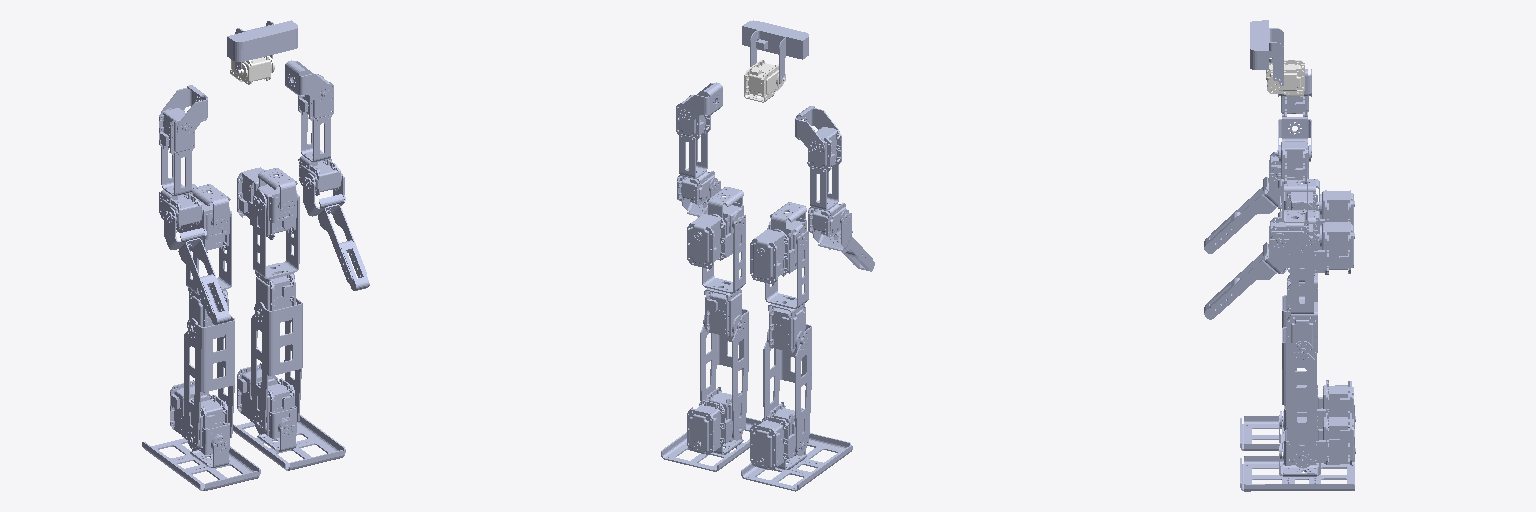
--- Render facts (derived) ---
Views: 3 orthographic renders of the robot side by side, from view 1: azimuth 30°, elevation 25°; view 2: azimuth 150°, elevation 25°; view 3: azimuth 270°, elevation 25°.
Model hanumanURDFv1 with 21 links and 20 joints (20 continuous), rooted at body, posed every joint at zero.
Visible links, largest first — view 1: L5, R5, AR3, L4, AL3, R7, L7, AL4, AR4, L6, R6, L3 (+8 smaller); view 2: AR3, R5, L4, L5, R4, AL3, R3, L3, L6, R6, R7, H3 (+7 smaller); view 3: L5, L7, L4, AL3, L6, AL4, L3, AR4, R3, H3, R6, R7 (+3 smaller).
Boxes of the visible links, left/top/right/bottom form: L5: left=251, top=298, right=302, bottom=429; R5: left=184, top=315, right=234, bottom=446; AR3: left=159, top=108, right=203, bottom=229; L4: left=253, top=195, right=299, bottom=322; AL3: left=298, top=74, right=342, bottom=195; R7: left=142, top=438, right=260, bottom=490; L7: left=233, top=415, right=345, bottom=470; AL4: left=303, top=175, right=369, bottom=290; AR4: left=164, top=209, right=230, bottom=324; L6: left=237, top=363, right=296, bottom=438; R6: left=170, top=380, right=229, bottom=454; L3: left=237, top=167, right=297, bottom=239; AR3: left=807, top=127, right=848, bottom=237; R5: left=763, top=324, right=811, bottom=451; L4: left=702, top=215, right=745, bottom=336; L5: left=700, top=309, right=748, bottom=436; R4: left=765, top=231, right=808, bottom=352; AL3: left=676, top=95, right=717, bottom=205; R3: left=750, top=218, right=806, bottom=285; L3: left=687, top=202, right=743, bottom=269; L6: left=687, top=387, right=743, bottom=454; R6: left=750, top=402, right=806, bottom=470; R7: left=741, top=433, right=852, bottom=491; H3: left=742, top=20, right=808, bottom=83; L5: left=1282, top=327, right=1316, bottom=460; L7: left=1240, top=446, right=1354, bottom=491; L4: left=1287, top=242, right=1317, bottom=359; AL3: left=1270, top=141, right=1311, bottom=251; L6: left=1279, top=412, right=1355, bottom=467; AL4: left=1204, top=226, right=1288, bottom=319; L3: left=1287, top=222, right=1354, bottom=274; AR4: left=1204, top=160, right=1281, bottom=253; R3: left=1280, top=190, right=1354, bottom=238; H3: left=1250, top=20, right=1283, bottom=85; R6: left=1279, top=380, right=1355, bottom=430; R7: left=1240, top=416, right=1354, bottom=450.
Size in the robot's own frame: 0.2516 by 0.1979 by 0.6097 metres.
Meshes: 21 distinct files referenced, 20 mesh visuals loaded (20 binary STL); not drawn: 1 (reference not matched to a file when rendering).

The robot description file, URDF, robot "hanumanURDFv1":
<?xml version="1.0" encoding="utf-8"?>
<!-- This URDF was automatically created by SolidWorks to URDF Exporter! Originally created by Stephen Brawner ([email redacted]) 
     Commit Version: 1.6.0-4-g7f85cfe  Build Version: 1.6.7995.38578
     For more information, please see http://wiki.ros.org/sw_urdf_exporter -->
<robot
  name="hanumanURDFv1">
  <link
    name="body">
    <inertial>
      <origin
        xyz="-0.00041783 0.011271 -0.062317"
        rpy="0 0 0" />
      <mass
        value="1.0275" />
      <inertia
        ixx="0.00096224"
        ixy="1.373E-09"
        ixz="-1.7501E-09"
        iyy="0.0010372"
        iyz="6.0957E-06"
        izz="0.0014276" />
    </inertial>
    <visual>
      <origin
        xyz="0 0 0"
        rpy="0 0 0" />
      <geometry>
        <mesh
          filename="package://meshes/body.STL" />
      </geometry>
      <material
        name="">
        <color
          rgba="0.79216 0.81961 0.93333 1" />
      </material>
    </visual>
    <collision>
      <origin
        xyz="0 0 0"
        rpy="0 0 0" />
      <geometry>
        <mesh
          filename="package://meshes/body.STL" />
      </geometry>
    </collision>
  </link>
  <link
    name="R2">
    <inertial>
      <origin
        xyz="5.1195E-12 -0.007935 0.0049359"
        rpy="0 0 0" />
      <mass
        value="0.0059458" />
      <inertia
        ixx="2.941E-06"
        ixy="-2.483E-16"
        ixz="-3.9623E-15"
        iyy="2.9244E-06"
        iyz="-3.8274E-08"
        izz="9.8493E-07" />
    </inertial>
    <visual>
      <origin
        xyz="0 0 0"
        rpy="0 0 0" />
      <geometry>
        <mesh
          filename="package://meshes/R2.STL" />
      </geometry>
      <material
        name="">
        <color
          rgba="0.79216 0.81961 0.93333 1" />
      </material>
    </visual>
    <collision>
      <origin
        xyz="0 0 0"
        rpy="0 0 0" />
      <geometry>
        <mesh
          filename="package://meshes/R2.STL" />
      </geometry>
    </collision>
  </link>
  <joint
    name="JR1"
    type="continuous">
    <origin
      xyz="-0.049 0.0104088177516317 -0.132568535154512"
      rpy="1.57387978032368 0 0" />
    <parent
      link="body" />
    <child
      link="R2" />
    <axis
      xyz="0 1 0" />
  </joint>
  <link
    name="R3">
    <inertial>
      <origin
        xyz="-2.3368E-05 -0.01515 -0.020816"
        rpy="0 0 0" />
      <mass
        value="0.15544" />
      <inertia
        ixx="5.5826E-05"
        ixy="-8.8929E-07"
        ixz="-1.9579E-21"
        iyy="3.4649E-05"
        iyz="-8.7464E-07"
        izz="5.6133E-05" />
    </inertial>
    <visual>
      <origin
        xyz="0 0 0"
        rpy="0 0 0" />
      <geometry>
        <mesh
          filename="package://meshes/R3.STL" />
      </geometry>
      <material
        name="">
        <color
          rgba="0.79216 0.81961 0.93333 1" />
      </material>
    </visual>
    <collision>
      <origin
        xyz="0 0 0"
        rpy="0 0 0" />
      <geometry>
        <mesh
          filename="package://meshes/R3.STL" />
      </geometry>
    </collision>
  </link>
  <joint
    name="JR2"
    type="continuous">
    <origin
      xyz="0 -0.0315 0"
      rpy="0 0 0" />
    <parent
      link="R2" />
    <child
      link="R3" />
    <axis
      xyz="0 0 1" />
  </joint>
  <link
    name="R4">
    <inertial>
      <origin
        xyz="-3.7156E-05 -0.10988 0.064502"
        rpy="0 0 0" />
      <mass
        value="0.08965" />
      <inertia
        ixx="4.1601E-05"
        ixy="7.6136E-07"
        ixz="-4.4445E-07"
        iyy="3.2411E-05"
        iyz="1.1546E-05"
        izz="4.5766E-05" />
    </inertial>
    <visual>
      <origin
        xyz="0 0 0"
        rpy="0 0 0" />
      <geometry>
        <mesh
          filename="package://meshes/R4.STL" />
      </geometry>
      <material
        name="">
        <color
          rgba="0.79216 0.81961 0.93333 1" />
      </material>
    </visual>
    <collision>
      <origin
        xyz="0 0 0"
        rpy="0 0 0" />
      <geometry>
        <mesh
          filename="package://meshes/R4.STL" />
      </geometry>
    </collision>
  </link>
  <joint
    name="JR3"
    type="continuous">
    <origin
      xyz="0 0 0"
      rpy="0.523598775598301 0 0" />
    <parent
      link="R3" />
    <child
      link="R4" />
    <axis
      xyz="1 0 0" />
  </joint>
  <link
    name="R5">
    <inertial>
      <origin
        xyz="2.2898E-16 -0.05816 -0.023497"
        rpy="0 0 0" />
      <mass
        value="0.027265" />
      <inertia
        ixx="6.4396E-05"
        ixy="2.3077E-20"
        ixz="4.9191E-20"
        iyy="3.9142E-05"
        iyz="-2.6065E-05"
        izz="5.2842E-05" />
    </inertial>
    <visual>
      <origin
        xyz="0 0 0"
        rpy="0 0 0" />
      <geometry>
        <mesh
          filename="package://meshes/R5.STL" />
      </geometry>
      <material
        name="">
        <color
          rgba="0.79216 0.81961 0.93333 1" />
      </material>
    </visual>
    <collision>
      <origin
        xyz="0 0 0"
        rpy="0 0 0" />
      <geometry>
        <mesh
          filename="package://meshes/R5.STL" />
      </geometry>
    </collision>
  </link>
  <joint
    name="JR4"
    type="continuous">
    <origin
      xyz="0 -0.133733937586588 0.0783660254037848"
      rpy="-1.04719755119658 0 0" />
    <parent
      link="R4" />
    <child
      link="R5" />
    <axis
      xyz="1 0 0" />
  </joint>
  <link
    name="R6">
    <inertial>
      <origin
        xyz="-1.949E-05 0.014466 -0.02182"
        rpy="0 0 0" />
      <mass
        value="0.15544" />
      <inertia
        ixx="5.5826E-05"
        ixy="8.7388E-07"
        ixz="-1.0829E-20"
        iyy="3.4649E-05"
        iyz="8.9004E-07"
        izz="5.6133E-05" />
    </inertial>
    <visual>
      <origin
        xyz="0 0 0"
        rpy="0 0 0" />
      <geometry>
        <mesh
          filename="package://meshes/R6.STL" />
      </geometry>
      <material
        name="">
        <color
          rgba="0.79216 0.81961 0.93333 1" />
      </material>
    </visual>
    <collision>
      <origin
        xyz="0 0 0"
        rpy="0 0 0" />
      <geometry>
        <mesh
          filename="package://meshes/R6.STL" />
      </geometry>
    </collision>
  </link>
  <joint
    name="JR5"
    type="continuous">
    <origin
      xyz="0 -0.134233937586589 -0.0774999999999979"
      rpy="0.523598775598283 0 0" />
    <parent
      link="R5" />
    <child
      link="R6" />
    <axis
      xyz="1 0 0" />
  </joint>
  <link
    name="R7">
    <inertial>
      <origin
        xyz="-0.010368 -0.029152 0.0094603"
        rpy="0 0 0" />
      <mass
        value="0.02937" />
      <inertia
        ixx="5.2726E-05"
        ixy="-2.4831E-16"
        ixz="3.9623E-15"
        iyy="7.627E-05"
        iyz="-4.0769E-07"
        izz="2.5035E-05" />
    </inertial>
    <visual>
      <origin
        xyz="0 0 0"
        rpy="0 0 0" />
      <geometry>
        <mesh
          filename="package://meshes/R7.STL" />
      </geometry>
      <material
        name="">
        <color
          rgba="0.79216 0.81961 0.93333 1" />
      </material>
    </visual>
    <collision>
      <origin
        xyz="0 0 0"
        rpy="0 0 0" />
      <geometry>
        <mesh
          filename="package://meshes/R7.STL" />
      </geometry>
    </collision>
  </link>
  <joint
    name="JR6"
    type="continuous">
    <origin
      xyz="0 0 0"
      rpy="0 0 0" />
    <parent
      link="R6" />
    <child
      link="R7" />
    <axis
      xyz="0 0 1" />
  </joint>
  <link
    name="L2">
    <inertial>
      <origin
        xyz="5.1196E-12 -0.007935 0.0049359"
        rpy="0 0 0" />
      <mass
        value="0.0059458" />
      <inertia
        ixx="2.941E-06"
        ixy="-2.4831E-16"
        ixz="-3.9623E-15"
        iyy="2.9244E-06"
        iyz="-3.8274E-08"
        izz="9.8493E-07" />
    </inertial>
    <visual>
      <origin
        xyz="0 0 0"
        rpy="0 0 0" />
      <geometry>
        <mesh
          filename="package://meshes/L2.STL" />
      </geometry>
      <material
        name="">
        <color
          rgba="0.79216 0.81961 0.93333 1" />
      </material>
    </visual>
    <collision>
      <origin
        xyz="0 0 0"
        rpy="0 0 0" />
      <geometry>
        <mesh
          filename="package://meshes/L2.STL" />
      </geometry>
    </collision>
  </link>
  <joint
    name="JL1"
    type="continuous">
    <origin
      xyz="0.049 0.0104088177516317 -0.132568535154512"
      rpy="1.57387978032368 0 0" />
    <parent
      link="body" />
    <child
      link="L2" />
    <axis
      xyz="0 1 0" />
  </joint>
  <link
    name="L3">
    <inertial>
      <origin
        xyz="1.94903609579411E-05 -0.0151499843579775 -0.0208201673886667"
        rpy="0 0 0" />
      <mass
        value="0.15544328108956" />
      <inertia
        ixx="5.58260684034127E-05"
        ixy="8.73883694619814E-07"
        ixz="7.34053883177235E-21"
        iyy="3.46492828581794E-05"
        iyz="-8.90044715309545E-07"
        izz="5.61332220076912E-05" />
    </inertial>
    <visual>
      <origin
        xyz="0 0 0"
        rpy="0 0 0" />
      <geometry>
        <mesh
          filename="package://meshes/L3.STL" />
      </geometry>
      <material
        name="">
        <color
          rgba="0.792156862745098 0.819607843137255 0.933333333333333 1" />
      </material>
    </visual>
    <collision>
      <origin
        xyz="0 0 0"
        rpy="0 0 0" />
      <geometry>
        <mesh
          filename="package://meshes/L3.STL" />
      </geometry>
    </collision>
  </link>
  <joint
    name="JL2"
    type="continuous">
    <origin
      xyz="0 -0.0315000000000001 0"
      rpy="0 0 0" />
    <parent
      link="L2" />
    <child
      link="L3" />
    <axis
      xyz="0 0 1" />
  </joint>
  <link
    name="L4">
    <inertial>
      <origin
        xyz="3.71560602005702E-05 0.0630194871166002 0.104414323766192"
        rpy="0 0 0" />
      <mass
        value="0.0896499629130445" />
      <inertia
        ixx="4.16009895691135E-05"
        ixy="5.02197314697277E-07"
        ixz="7.24573527441378E-07"
        iyy="4.36739646160413E-05"
        iyz="-1.25252037868802E-05"
        izz="3.45030480540803E-05" />
    </inertial>
    <visual>
      <origin
        xyz="0 0 0"
        rpy="0 0 0" />
      <geometry>
        <mesh
          filename="package://meshes/L4.STL" />
      </geometry>
      <material
        name="">
        <color
          rgba="0.792156862745098 0.819607843137255 0.933333333333333 1" />
      </material>
    </visual>
    <collision>
      <origin
        xyz="0 0 0"
        rpy="0 0 0" />
      <geometry>
        <mesh
          filename="package://meshes/L4.STL" />
      </geometry>
    </collision>
  </link>
  <joint
    name="JL3"
    type="continuous">
    <origin
      xyz="0 -0.00573576436351039 0.00919152044288992"
      rpy="2.1816615649929 0 0" />
    <parent
      link="L3" />
    <child
      link="L4" />
    <axis
      xyz="1 0 0" />
  </joint>
  <link
    name="L5">
    <inertial>
      <origin
        xyz="4.78783679369599E-16 -0.0183390437380094 0.0599869380999931"
        rpy="0 0 0" />
      <mass
        value="0.0272654512429999" />
      <inertia
        ixx="6.43959167351525E-05"
        ixy="6.25554376448522E-20"
        ixz="-1.3540095575496E-19"
        iyy="5.72644987666864E-05"
        iyz="2.44798091780557E-05"
        izz="3.47198773427012E-05" />
    </inertial>
    <visual>
      <origin
        xyz="0 0 0"
        rpy="0 0 0" />
      <geometry>
        <mesh
          filename="package://meshes/L5.STL" />
      </geometry>
      <material
        name="">
        <color
          rgba="0.792156862745098 0.819607843137255 0.933333333333333 1" />
      </material>
    </visual>
    <collision>
      <origin
        xyz="0 0 0"
        rpy="0 0 0" />
      <geometry>
        <mesh
          filename="package://meshes/L5.STL" />
      </geometry>
    </collision>
  </link>
  <joint
    name="JL4"
    type="continuous">
    <origin
      xyz="0 0.0789043476344092 0.126968566864793"
      rpy="-1.0471975511966 0 0" />
    <parent
      link="L4" />
    <child
      link="L5" />
    <axis
      xyz="1 0 0" />
  </joint>
  <link
    name="L6">
    <inertial>
      <origin
        xyz="2.33682225148149E-05 -0.0229940897785377 -0.0125097987045415"
        rpy="0 0 0" />
      <mass
        value="0.15544328108956" />
      <inertia
        ixx="5.58260684034126E-05"
        ixy="7.75063095128783E-08"
        ixz="8.85901171526324E-07"
        iyy="5.58181471321927E-05"
        iyz="-2.72667897496436E-06"
        izz="3.49643577336778E-05" />
    </inertial>
    <visual>
      <origin
        xyz="0 0 0"
        rpy="0 0 0" />
      <geometry>
        <mesh
          filename="package://meshes/L6.STL" />
      </geometry>
      <material
        name="">
        <color
          rgba="0.792156862745098 0.819607843137255 0.933333333333333 1" />
      </material>
    </visual>
    <collision>
      <origin
        xyz="0 0 0"
        rpy="0 0 0" />
      <geometry>
        <mesh
          filename="package://meshes/L6.STL" />
      </geometry>
    </collision>
  </link>
  <joint
    name="JL5"
    type="continuous">
    <origin
      xyz="0 -0.06550583056981 0.14047770699068"
      rpy="0.523598775598298 0 0" />
    <parent
      link="L5" />
    <child
      link="L6" />
    <axis
      xyz="1 0 0" />
  </joint>
  <link
    name="L7">
    <inertial>
      <origin
        xyz="0.010368 0.011965 0.028217"
        rpy="0 0 0" />
      <mass
        value="0.02937" />
      <inertia
        ixx="5.2726E-05"
        ixy="3.9688E-15"
        ixz="-9.793E-17"
        iyy="2.5495E-05"
        iyz="4.8499E-06"
        izz="7.581E-05" />
    </inertial>
    <visual>
      <origin
        xyz="0 0 0"
        rpy="0 0 0" />
      <geometry>
        <mesh
          filename="package://meshes/L7.STL" />
      </geometry>
      <material
        name="">
        <color
          rgba="0.79216 0.81961 0.93333 1" />
      </material>
    </visual>
    <collision>
      <origin
        xyz="0 0 0"
        rpy="0 0 0" />
      <geometry>
        <mesh
          filename="package://meshes/L7.STL" />
      </geometry>
    </collision>
  </link>
  <joint
    name="JL6"
    type="continuous">
    <origin
      xyz="0 0 0"
      rpy="0 0 0" />
    <parent
      link="L6" />
    <child
      link="L7" />
    <axis
      xyz="0 0.99619 -0.087156" />
  </joint>
  <link
    name="AR2">
    <inertial>
      <origin
        xyz="-0.0122215328030043 -0.00304504079535875 0.00046755664416805"
        rpy="0 0 0" />
      <mass
        value="0.00782111452958767" />
      <inertia
        ixx="3.46730290731849E-06"
        ixy="-3.56887654541805E-07"
        ixz="5.4799001168357E-08"
        iyy="3.44521472170541E-06"
        iyz="-2.06144819144966E-07"
        izz="2.13431503339268E-06" />
    </inertial>
    <visual>
      <origin
        xyz="0 0 0"
        rpy="0 0 0" />
      <geometry>
        <mesh
          filename="package://meshes/AR2.STL" />
      </geometry>
      <material
        name="">
        <color
          rgba="0.792156862745098 0.819607843137255 0.933333333333333 1" />
      </material>
    </visual>
    <collision>
      <origin
        xyz="0 0 0"
        rpy="0 0 0" />
      <geometry>
        <mesh
          filename="package://meshes/AR2.STL" />
      </geometry>
    </collision>
  </link>
  <joint
    name="JAR1"
    type="continuous">
    <origin
      xyz="-0.0665 0 -0.0001"
      rpy="1.7262 0 0" />
    <parent
      link="body" />
    <child
      link="AR2" />
    <axis
      xyz="1 0 0" />
  </joint>
  <link
    name="AR3">
    <inertial>
      <origin
        xyz="-0.0217424355782832 -0.0598709237463328 0.0138089346841776"
        rpy="0 0 0" />
      <mass
        value="0.097623535640491" />
      <inertia
        ixx="2.66927650742415E-05"
        ixy="-1.51414262049177E-06"
        ixz="-2.59340162798032E-07"
        iyy="2.29946667509428E-05"
        iyz="-4.51570937003064E-07"
        izz="2.16812046230082E-05" />
    </inertial>
    <visual>
      <origin
        xyz="0 0 0"
        rpy="0 0 0" />
      <geometry>
        <mesh
          filename="package://meshes/AR3.STL" />
      </geometry>
      <material
        name="">
        <color
          rgba="0.792156862745098 0.819607843137255 0.933333333333333 1" />
      </material>
    </visual>
    <collision>
      <origin
        xyz="0 0 0"
        rpy="0 0 0" />
      <geometry>
        <mesh
          filename="package://meshes/AR3.STL" />
      </geometry>
    </collision>
  </link>
  <joint
    name="JAR2"
    type="continuous">
    <origin
      xyz="-0.035 -0.019768322112152 0.00303536503079964"
      rpy="0.00863677948697105 0.0507435699806214 0.337108707096089" />
    <parent
      link="AR2" />
    <child
      link="AR3" />
    <axis
      xyz="0 0.151768251539982 0.988416105607601" />
  </joint>
  <link
    name="AR4">
    <inertial>
      <origin
        xyz="-0.02644 -0.071968 0.024939"
        rpy="0 0 0" />
      <mass
        value="0.026181" />
      <inertia
        ixx="1.2943E-05"
        ixy="-2.0731E-06"
        ixz="1.5391E-06"
        iyy="8.4994E-06"
        iyz="4.3075E-06"
        izz="1.3208E-05" />
    </inertial>
    <visual>
      <origin
        xyz="0 0 0"
        rpy="0 0 0" />
      <geometry>
        <mesh
          filename="package://meshes/AR4.STL" />
      </geometry>
      <material
        name="">
        <color
          rgba="0.79216 0.81961 0.93333 1" />
      </material>
    </visual>
    <collision>
      <origin
        xyz="0 0 0"
        rpy="0 0 0" />
      <geometry>
        <mesh
          filename="package://meshes/AR4.STL" />
      </geometry>
    </collision>
  </link>
  <joint
    name="JAR3"
    type="continuous">
    <origin
      xyz="-0.0391688936407426 -0.105994321647765 0.0375212146577176"
      rpy="-0.401595058674256 0.131487536773221 -0.0485277151924821" />
    <parent
      link="AR3" />
    <child
      link="AR4" />
    <axis
      xyz="0.942500202763317 -0.330334175028508 0.0507217960973566" />
  </joint>
  <link
    name="AL2">
    <inertial>
      <origin
        xyz="0.0122215328030043 -0.00306297937268113 -0.000330212088565164"
        rpy="0 0 0" />
      <mass
        value="0.00782111452958769" />
      <inertia
        ixx="3.46730290731849E-06"
        ixy="3.58990108077455E-07"
        ixz="3.87018190261986E-08"
        iyy="3.46107948276652E-06"
        iyz="1.46447551999455E-07"
        izz="2.11845027233158E-06" />
    </inertial>
    <visual>
      <origin
        xyz="0 0 0"
        rpy="0 0 0" />
      <geometry>
        <mesh
          filename="package://meshes/AL2.STL" />
      </geometry>
      <material
        name="">
        <color
          rgba="0.792156862745098 0.819607843137255 0.933333333333333 1" />
      </material>
    </visual>
    <collision>
      <origin
        xyz="0 0 0"
        rpy="0 0 0" />
      <geometry>
        <mesh
          filename="package://meshes/AL2.STL" />
      </geometry>
    </collision>
  </link>
  <joint
    name="JAL1"
    type="continuous">
    <origin
      xyz="0.0665 0 -0.0001"
      rpy="1.4665 0 0" />
    <parent
      link="body" />
    <child
      link="AL2" />
    <axis
      xyz="1 0 0" />
  </joint>
  <link
    name="AL3">
    <inertial>
      <origin
        xyz="0.00729277157235909 -0.0647229266668686 -0.00238871067636881"
        rpy="0 0 0" />
      <mass
        value="0.0976235356404911" />
      <inertia
        ixx="2.71510597381538E-05"
        ixy="5.49545357684409E-07"
        ixz="-2.77333925095466E-07"
        iyy="2.27195249459817E-05"
        iyz="-2.99771975663198E-07"
        izz="2.14980517640569E-05" />
    </inertial>
    <visual>
      <origin
        xyz="0 0 0"
        rpy="0 0 0" />
      <geometry>
        <mesh
          filename="package://meshes/AL3.STL" />
      </geometry>
      <material
        name="">
        <color
          rgba="0.792156862745098 0.819607843137255 0.933333333333333 1" />
      </material>
    </visual>
    <collision>
      <origin
        xyz="0 0 0"
        rpy="0 0 0" />
      <geometry>
        <mesh
          filename="package://meshes/AL3.STL" />
      </geometry>
    </collision>
  </link>
  <joint
    name="JAL2"
    type="continuous">
    <origin
      xyz="0.035 -0.0198847788687522 -0.00214372790736723"
      rpy="-0.000675234731490389 0.0120468245174906 -0.111983173268338" />
    <parent
      link="AL2" />
    <child
      link="AL3" />
    <axis
      xyz="0 0.107186395368361 -0.994238943437611" />
  </joint>
  <link
    name="AL4">
    <inertial>
      <origin
        xyz="0.0091358 -0.080103 -0.00065632"
        rpy="0 0 0" />
      <mass
        value="0.026181" />
      <inertia
        ixx="1.3655E-05"
        ixy="8.9416E-07"
        ixz="-2.43E-07"
        iyy="5.5878E-06"
        iyz="1.9825E-06"
        izz="1.5407E-05" />
    </inertial>
    <visual>
      <origin
        xyz="0 0 0"
        rpy="0 0 0" />
      <geometry>
        <mesh
          filename="package://meshes/AL4.STL" />
      </geometry>
      <material
        name="">
        <color
          rgba="0.79216 0.81961 0.93333 1" />
      </material>
    </visual>
    <collision>
      <origin
        xyz="0 0 0"
        rpy="0 0 0" />
      <geometry>
        <mesh
          filename="package://meshes/AL4.STL" />
      </geometry>
    </collision>
  </link>
  <joint
    name="JAL3"
    type="continuous">
    <origin
      xyz="0.0131719485348661 -0.118037455358604 0.00839636256129469"
      rpy="-0.491746944547984 -0.0544973559727831 0.00759729409276157" />
    <parent
      link="AL3" />
    <child
      link="AL4" />
    <axis
      xyz="0.993664326490195 0.111741162067576 0.0120465331350887" />
  </joint>
  <link
    name="H2">
    <inertial>
      <origin
        xyz="0 0 0"
        rpy="0 0 0" />
      <mass
        value="0" />
      <inertia
        ixx="0"
        ixy="0"
        ixz="0"
        iyy="0"
        iyz="0"
        izz="0" />
    </inertial>
    <visual>
      <origin
        xyz="0 0 0"
        rpy="0 0 0" />
      <geometry>
        <mesh
          filename="package://meshes/H2.STL" />
      </geometry>
      <material
        name="">
        <color
          rgba="1 1 1 1" />
      </material>
    </visual>
    <collision>
      <origin
        xyz="0 0 0"
        rpy="0 0 0" />
      <geometry>
        <mesh
          filename="package://meshes/H2.STL" />
      </geometry>
    </collision>
  </link>
  <joint
    name="JH1"
    type="continuous">
    <origin
      xyz="0 -6.32106971754079E-05 0.0204999025462992"
      rpy="1.57335367827389 0.00172268556231549 -0.592800435653726" />
    <parent
      link="body" />
    <child
      link="H2" />
    <axis
      xyz="0 1 0" />
  </joint>
  <link
    name="H3">
    <inertial>
      <origin
        xyz="0.036914 -0.026132 0.056288"
        rpy="0 0 0" />
      <mass
        value="0.07019" />
      <inertia
        ixx="2.2612E-05"
        ixy="-3.1644E-07"
        ixz="1.9767E-05"
        iyy="5.3237E-05"
        iyz="2.5722E-08"
        izz="3.8268E-05" />
    </inertial>
    <visual>
      <origin
        xyz="0 0 0"
        rpy="0 0 0" />
      <geometry>
        <mesh
          filename="package://meshes/H3.STL" />
      </geometry>
      <material
        name="">
        <color
          rgba="0.79216 0.81961 0.93333 1" />
      </material>
    </visual>
    <collision>
      <origin
        xyz="0 0 0"
        rpy="0 0 0" />
      <geometry>
        <mesh
          filename="package://meshes/H3.STL" />
      </geometry>
    </collision>
  </link>
  <joint
    name="JH2"
    type="continuous">
    <origin
      xyz="0 0.01 0"
      rpy="-0.995509566645158 0.333454125428357 0.600667945155879" />
    <parent
      link="H2" />
    <child
      link="H3" />
    <axis
      xyz="0.829378138941034 0 -0.558687661083281" />
  </joint>
</robot>
